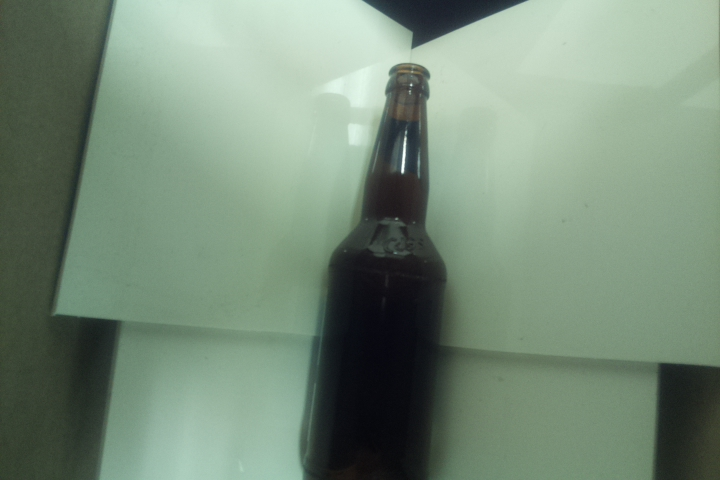makju: (296, 63, 448, 480)
